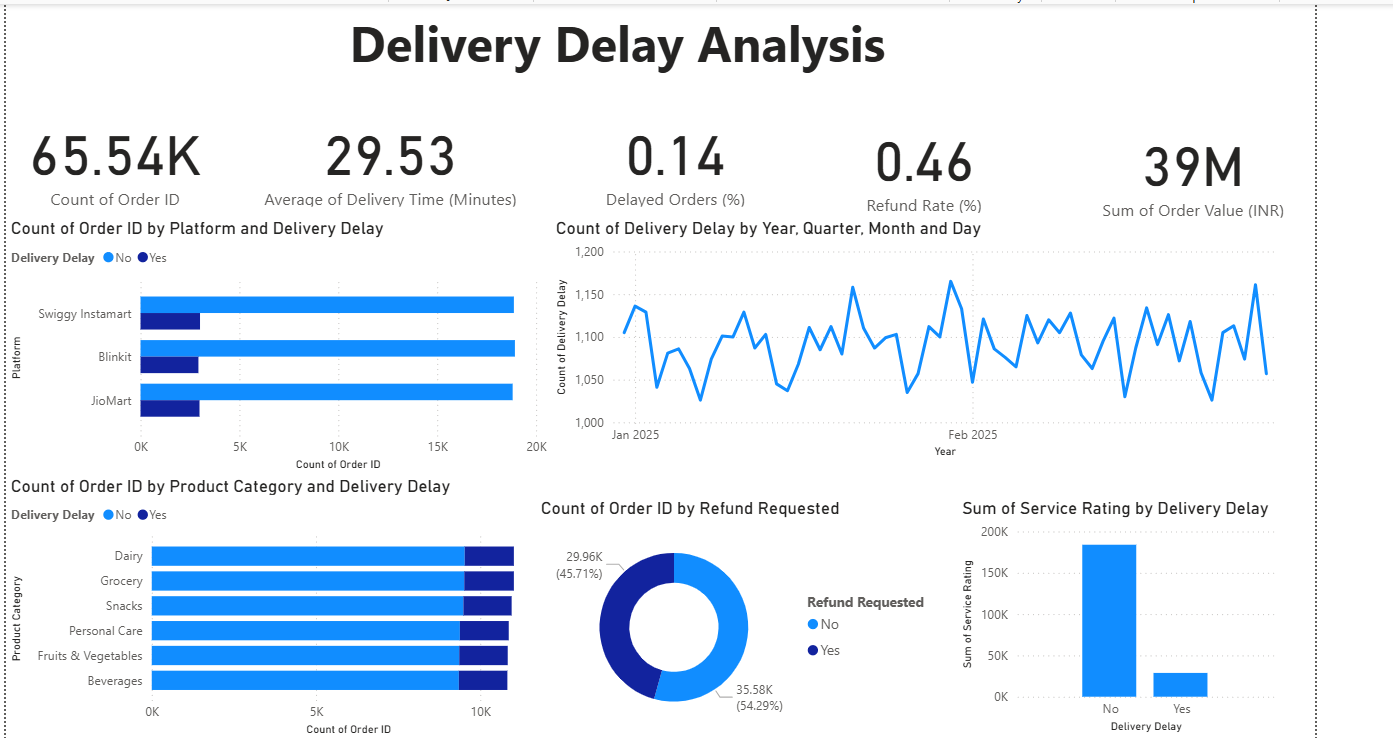

Layout of this report page (visuals, bound fields, positions):
{"tool":"powerbi","page":{"name":"Page 1","canvas":[1280,720],"ordinal":0},"visuals":[{"type":"lineChart","fields":{"Y":["CountNonNull(Ecommerce_Delivery_Analytics_Ne.Delivery Delay)"],"Category":["Ecommerce_Delivery_Analytics_Ne.Time.Variation.Date Hierarchy.Year","Ecommerce_Delivery_Analytics_Ne.Time.Variation.Date Hierarchy.Quarter","Ecommerce_Delivery_Analytics_Ne.Time.Variation.Date Hierarchy.Month","Ecommerce_Delivery_Analytics_Ne.Time.Variation.Date Hierarchy.Day"]},"box":[533.8,208.6,730,240.1],"z":0,"group":"g1"},{"type":"card","fields":{"Values":["Count(Ecommerce_Delivery_Analytics_Ne.Order ID)"]},"box":[0,101.5,214.1,101.5],"z":0},{"type":"card","fields":{"Values":["Avg(Ecommerce_Delivery_Analytics_Ne.Delivery Time (Minutes))"]},"box":[233.3,101.5,285.4,101.5],"z":1000},{"type":"columnChart","fields":{"Category":["Ecommerce_Delivery_Analytics_Ne.Delivery Delay"],"Y":["Sum(Ecommerce_Delivery_Analytics_Ne.Service Rating)"]},"box":[930.4,483,315.6,234.6],"z":1000,"group":"g1"},{"type":"card","fields":{"Values":["Ecommerce_Delivery_Analytics_Ne.Delayed Orders (%)"]},"box":[533.8,101.5,241.5,101.5],"z":2000},{"type":"donutChart","fields":{"Category":["Ecommerce_Delivery_Analytics_Ne.Refund Requested"],"Y":["CountNonNull(Ecommerce_Delivery_Analytics_Ne.Order ID)"]},"box":[518.7,483,395.2,234.6],"z":2000,"group":"g1"},{"type":"card","fields":{"Values":["Ecommerce_Delivery_Analytics_Ne.Refund Rate (%)"]},"box":[783.5,107,229.2,101.5],"z":3000},{"type":"card","fields":{"Values":["Sum(Ecommerce_Delivery_Analytics_Ne.Order Value (INR))"]},"box":[1042.9,107,237.4,111.1],"z":4000},{"type":"clusteredBarChart","fields":{"Series":["Ecommerce_Delivery_Analytics_Ne.Delivery Delay"],"Category":["Ecommerce_Delivery_Analytics_Ne.Platform"],"Y":["CountNonNull(Ecommerce_Delivery_Analytics_Ne.Order ID)"]},"box":[0,208.6,533.8,252.5],"z":5000},{"type":"barChart","fields":{"Y":["CountNonNull(Ecommerce_Delivery_Analytics_Ne.Order ID)"],"Category":["Ecommerce_Delivery_Analytics_Ne.Product Category"],"Series":["Ecommerce_Delivery_Analytics_Ne.Delivery Delay"]},"box":[0,461.1,543.4,259.3],"z":6000},{"type":"group","id":"g1","title":"Group 1","box":[518.7,208.6,745.1,509.1],"z":7000},{"type":"textbox","box":[0,0,1280.3,85.6],"z":7001}]}

Visuals, with their boxes on the page's 1280x720 design canvas (x1, y1, x2, y2). These are canvas units, not pixel positions in the 1393x738 screenshot, which may show the page scaled, cropped or inside an application window:
lineChart - CountNonNull(Ecommerce_Delivery_Analytics_Ne.Delivery Delay) x Ecommerce_Delivery_Analytics_Ne.Time.Variation.Date Hierarchy.Year: rect(534, 209, 1264, 449)
card - Count(Ecommerce_Delivery_Analytics_Ne.Order ID): rect(0, 102, 214, 203)
card - Avg(Ecommerce_Delivery_Analytics_Ne.Delivery Time (Minutes)): rect(233, 102, 519, 203)
columnChart - Ecommerce_Delivery_Analytics_Ne.Delivery Delay x Sum(Ecommerce_Delivery_Analytics_Ne.Service Rating): rect(930, 483, 1246, 718)
card - Ecommerce_Delivery_Analytics_Ne.Delayed Orders (%): rect(534, 102, 775, 203)
donutChart - Ecommerce_Delivery_Analytics_Ne.Refund Requested x CountNonNull(Ecommerce_Delivery_Analytics_Ne.Order ID): rect(519, 483, 914, 718)
card - Ecommerce_Delivery_Analytics_Ne.Refund Rate (%): rect(784, 107, 1013, 208)
card - Sum(Ecommerce_Delivery_Analytics_Ne.Order Value (INR)): rect(1043, 107, 1280, 218)
clusteredBarChart - Ecommerce_Delivery_Analytics_Ne.Delivery Delay x Ecommerce_Delivery_Analytics_Ne.Platform: rect(0, 209, 534, 461)
barChart - CountNonNull(Ecommerce_Delivery_Analytics_Ne.Order ID) x Ecommerce_Delivery_Analytics_Ne.Product Category: rect(0, 461, 543, 720)
"Group 1" group: rect(519, 209, 1264, 718)
textbox: rect(0, 0, 1280, 86)
